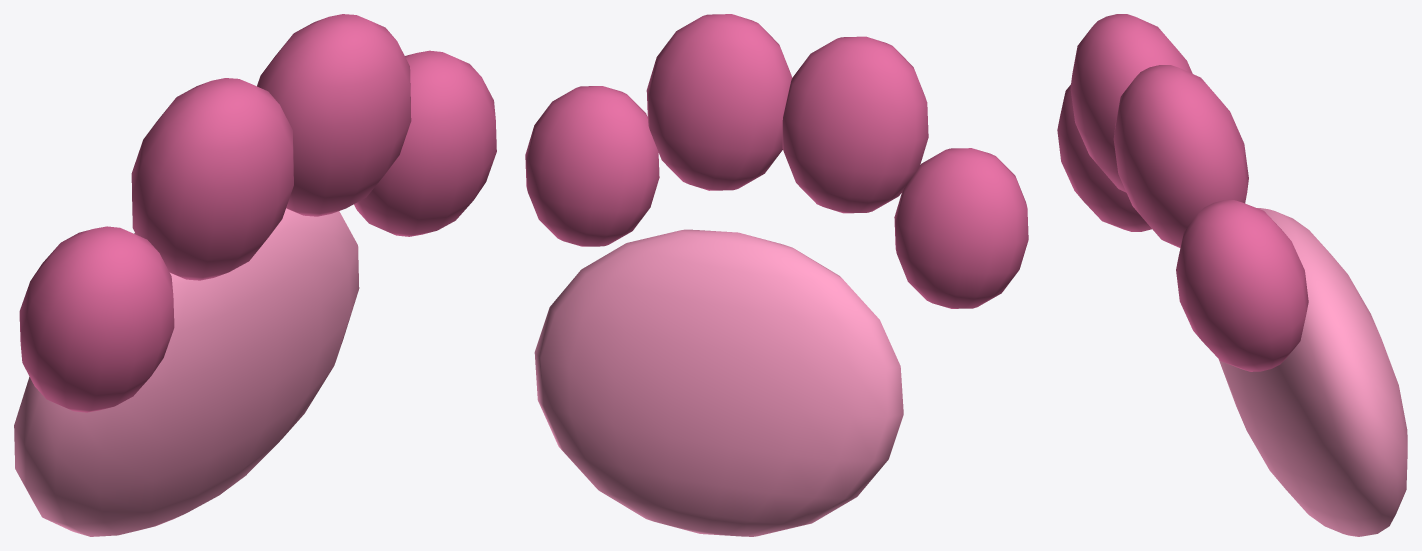
Rendered from Paw3D.glb.
3 views of the same model, side by side, from view 1: azimuth 30°, elevation 25°; view 2: azimuth 150°, elevation 25°; view 3: azimuth 270°, elevation 25° (orthographic). The views are drawn at different scales.
Visible parts, largest first — view 1: Body; view 2: Body; view 3: Body.
Part boxes in pixels (x1,y1,x2,y2): Body: (14, 14, 496, 536); Body: (525, 14, 1028, 536); Body: (1057, 14, 1407, 536).
Bounding box in the file's own units: 1.44 × 1.41 × 0.93.
Materials: 1 (1 with a texture image).
